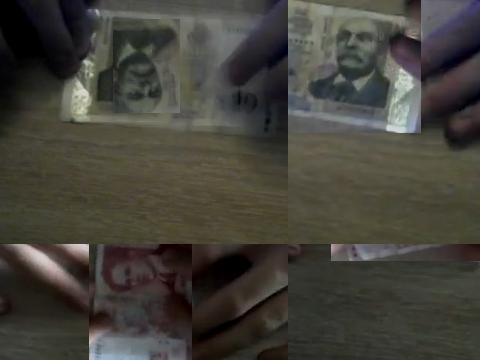10leva: (288, 0, 421, 133), (113, 19, 180, 113)
5leva: (90, 244, 192, 360)
